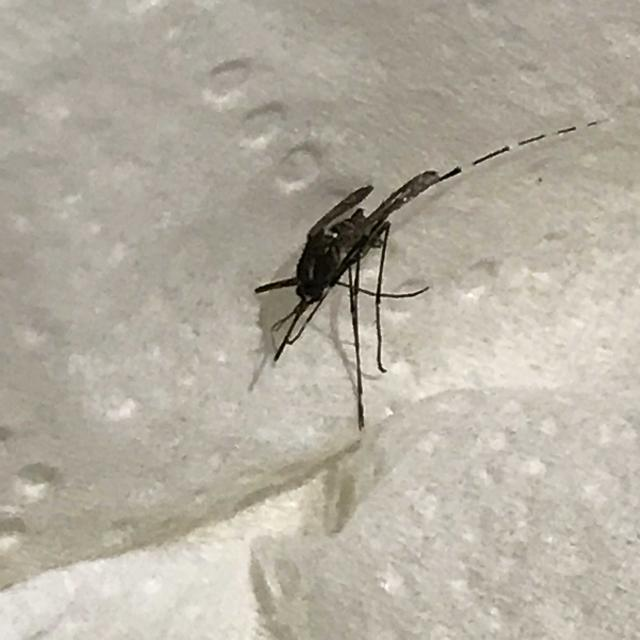albopictus: (255, 91, 574, 424)
